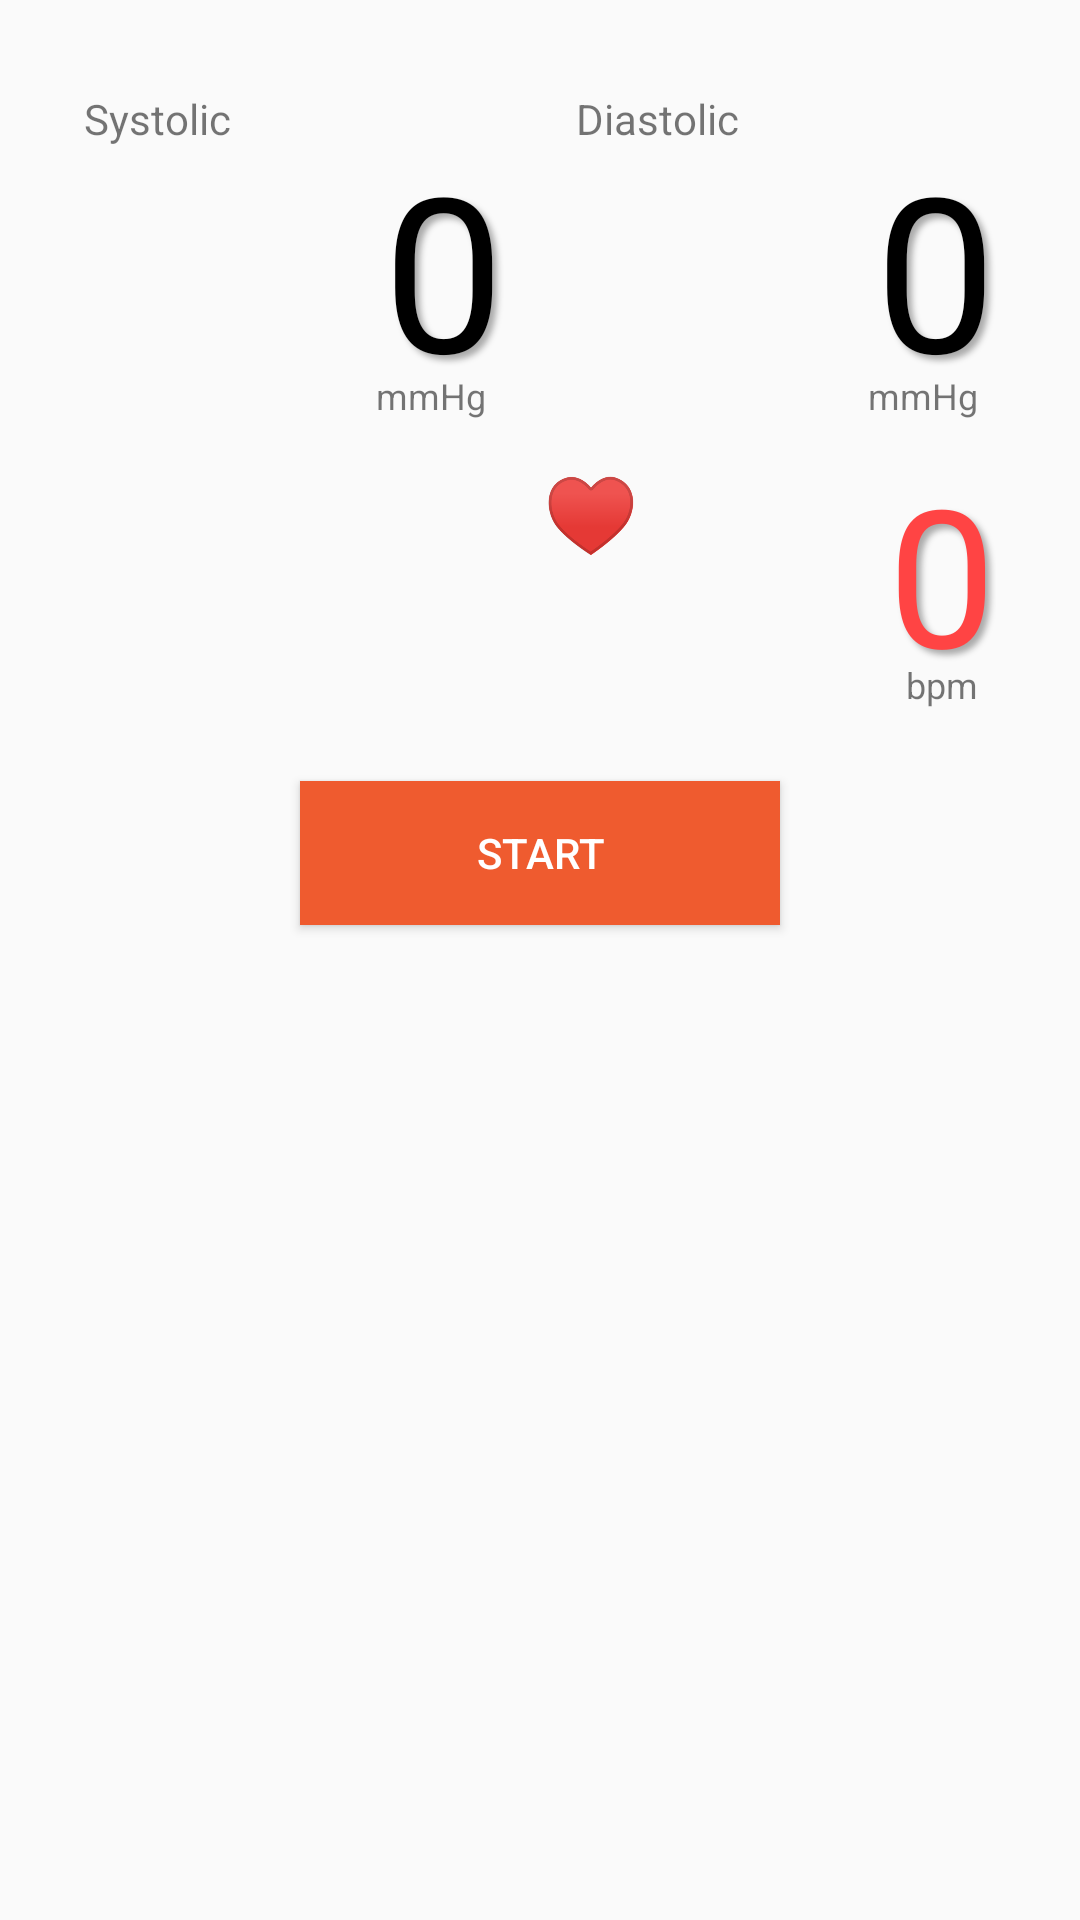

Icons on this 1080w x 1920h Android screen, each with its box as (x1=x1, y1=y1, x2=x2, y2=y2):
heart: (x1=548, y1=477, x2=633, y2=555)
